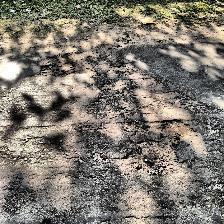pothole: (124, 138, 180, 176), (38, 51, 96, 77), (158, 118, 196, 140)
